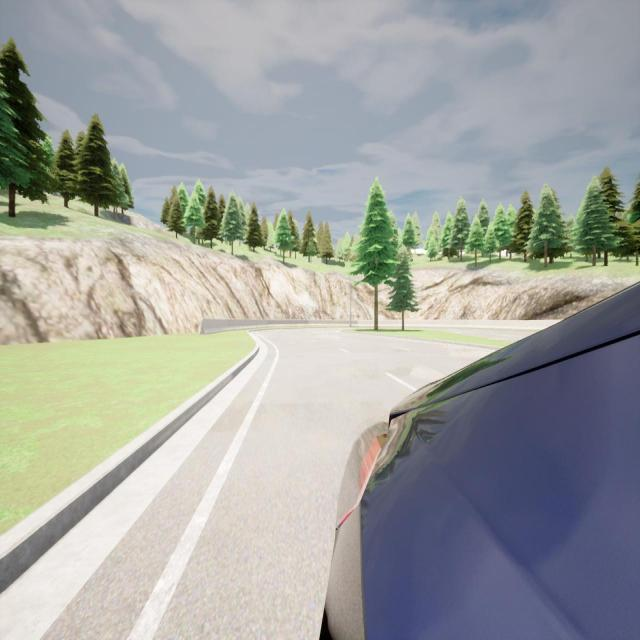Vehicle: (326, 283, 640, 638)
